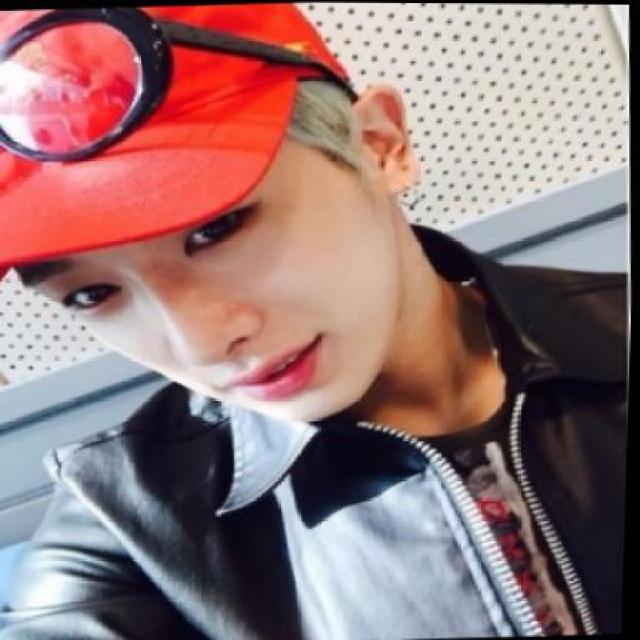hat: (0, 5, 345, 283)
